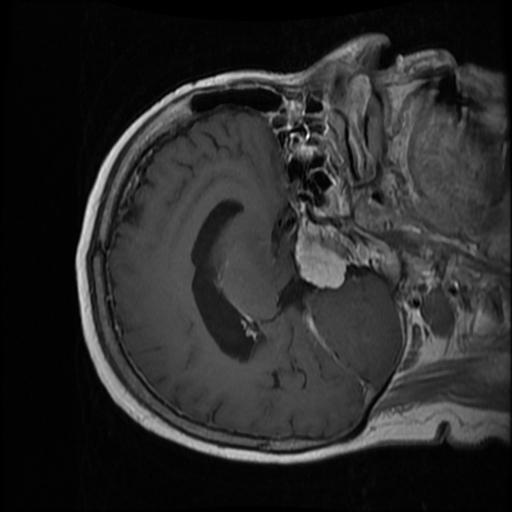meningioma: (293, 221, 347, 289)
